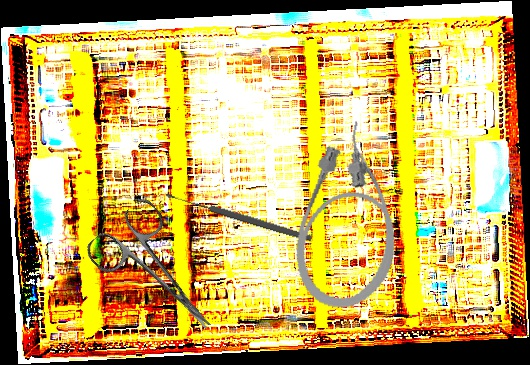Cannula: (284, 114, 420, 319)
Iris Scissors: (81, 195, 238, 356)
Surgical Spoon: (164, 189, 314, 244)
